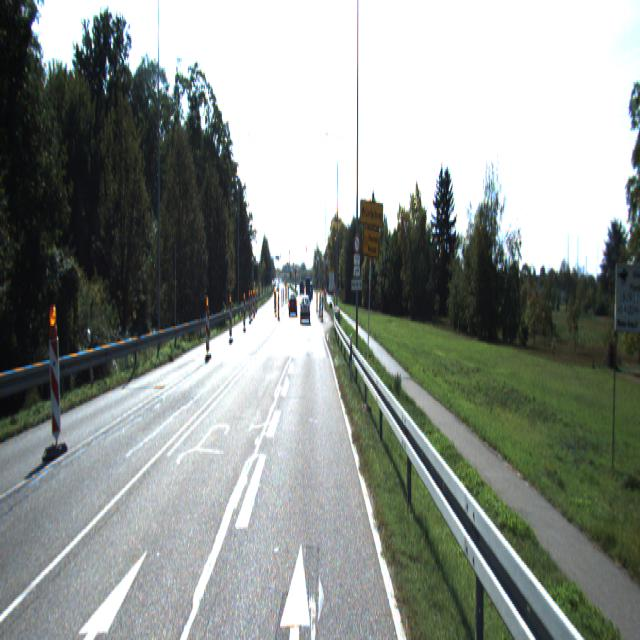Car: (300, 295, 310, 321), (288, 294, 298, 318)
